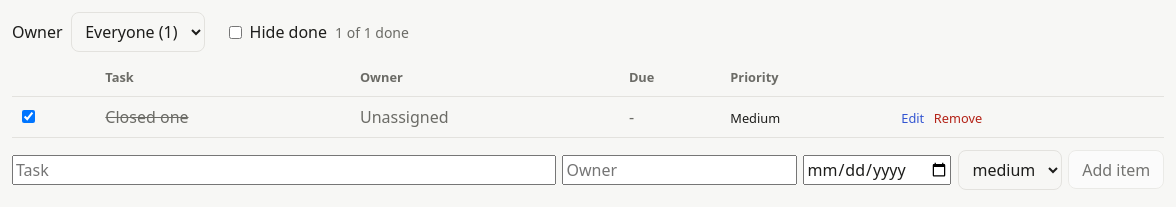
Test: ActionItemsTable editing › says everything is done when all items are hidden
Click the checkbox labelled "Hide done": {"x": 235, "y": 32} [229,26,242,39]
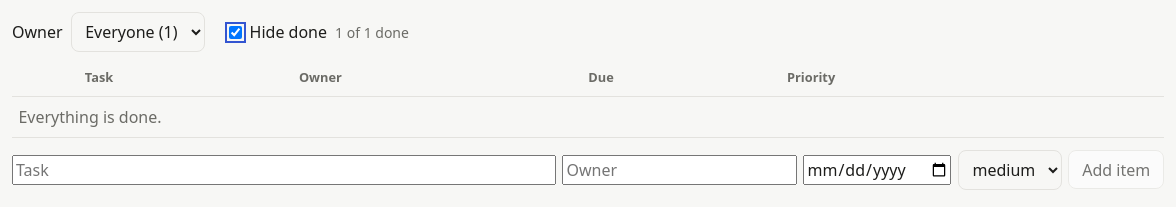
Now the text "Everything is done." is shown, box [12,96,1164,137]
